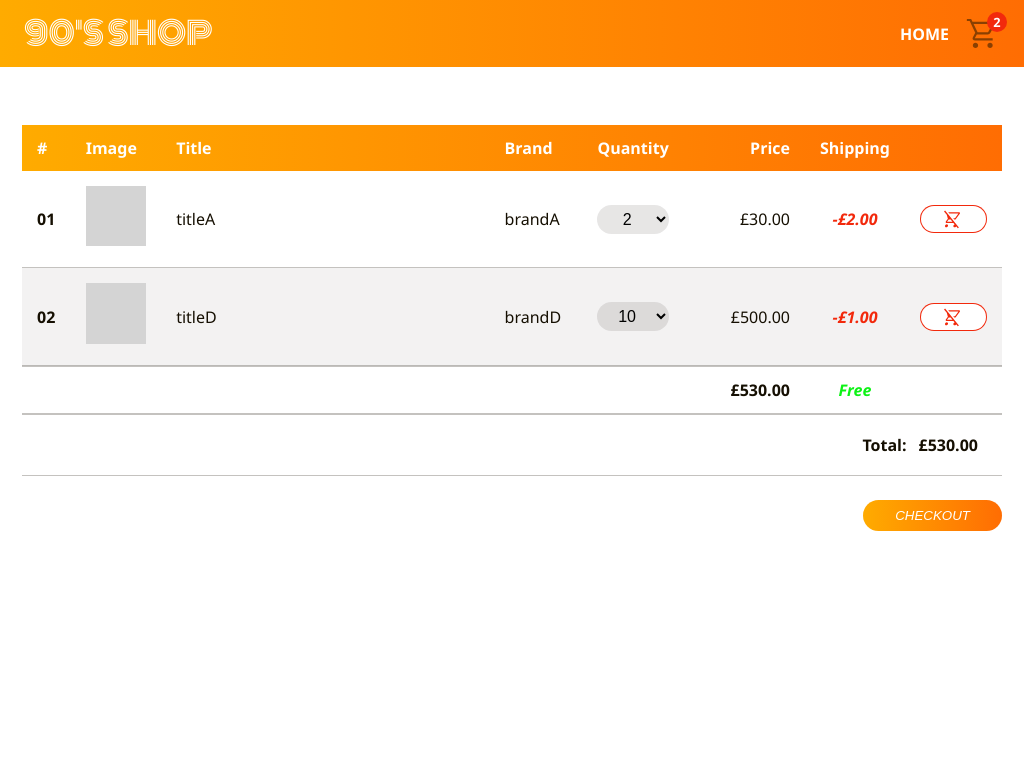
Test: Cart page › Remove from cart
Expected: the cell with test id "total-products" is shown, [684,366,805,414]
Expected: the cell with test id "total-products" reads "£530.00", [730,379,790,401]
Click the button with test id "remove-from-cart" in the row of "02" at (954, 317), box [920,303,987,331]
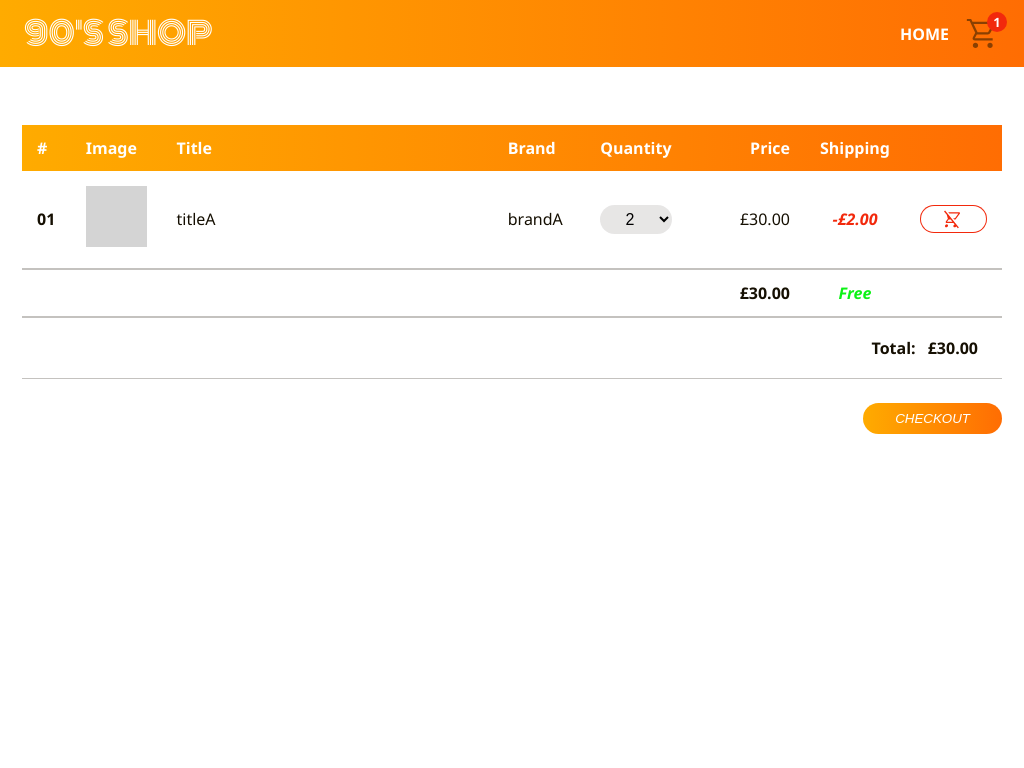
Expected: the cell with test id "total-products" is shown, [686,269,805,317]
Result: the cell with test id "total-products" reads "£30.00" at [740,282,790,304]
